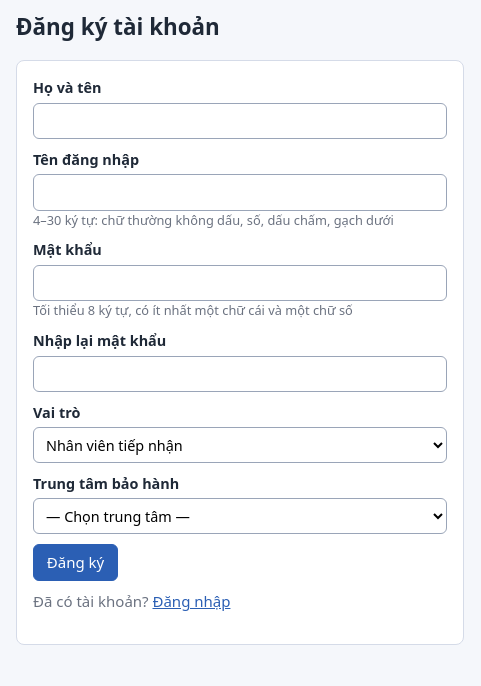
Test: Trang đăng ký › dữ liệu sai: nhập lại mật khẩu không khớp -> báo ngay, KHÔNG gọi máy chủ để đăng ký
In the field labelled "Họ và tên": (240, 121) [33, 103, 447, 139], type "Nguyễn Văn An"
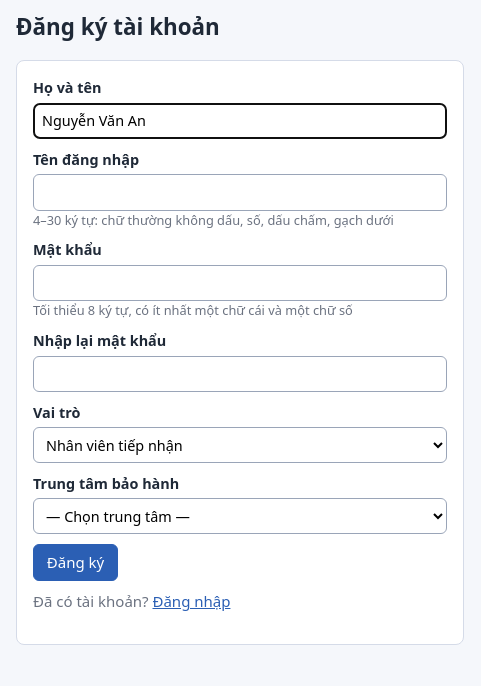
In the field labelled "Tên đăng nhập": (240, 192) [33, 174, 447, 211], type "van.an"
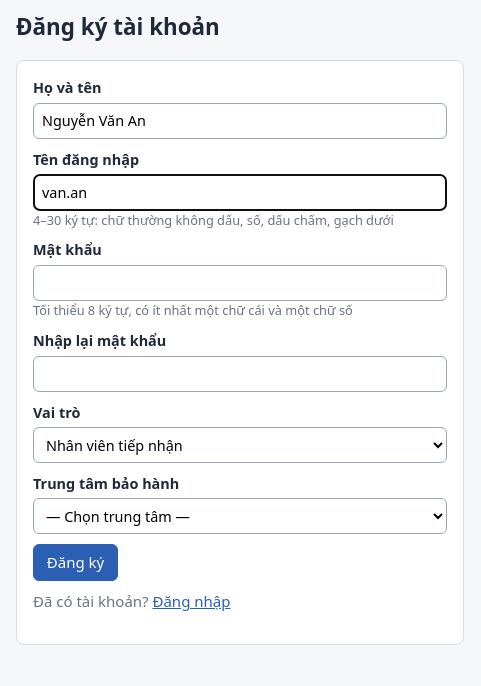
In the password field labelled "Mật khẩu": (240, 283) [33, 265, 447, 301], type "Matkhau123"
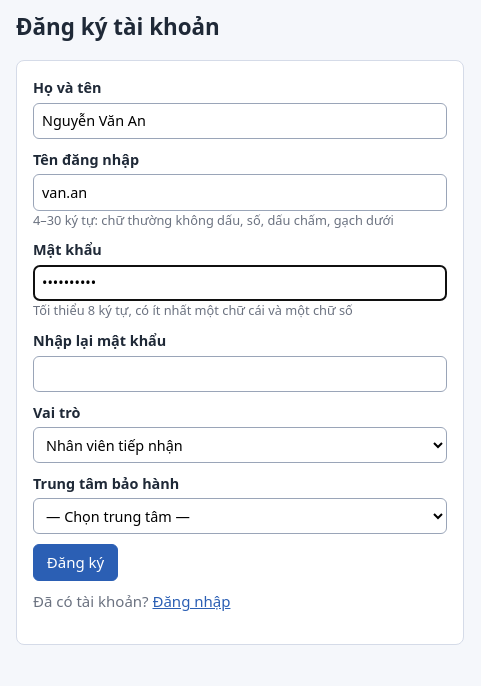
In the password field labelled "Nhập lại mật khẩu": (240, 374) [33, 356, 447, 392], type "KhacHan999"
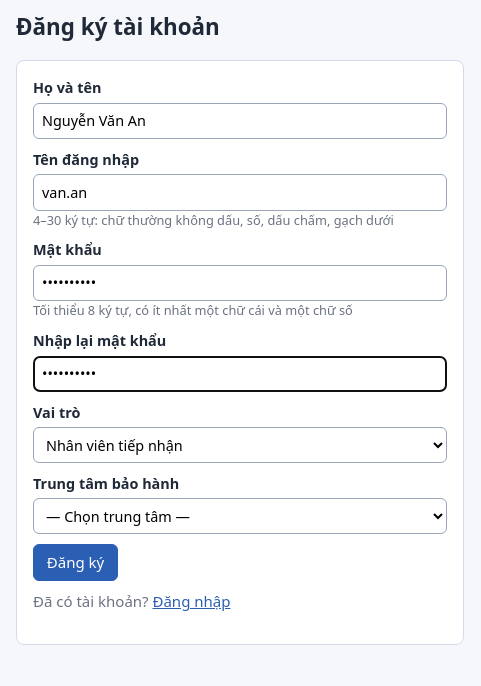
Select "Trung tâm Vĩnh Long (Vĩnh Long)" in the dropdown labelled "Trung tâm bảo hành": (240, 516) [33, 498, 447, 534]
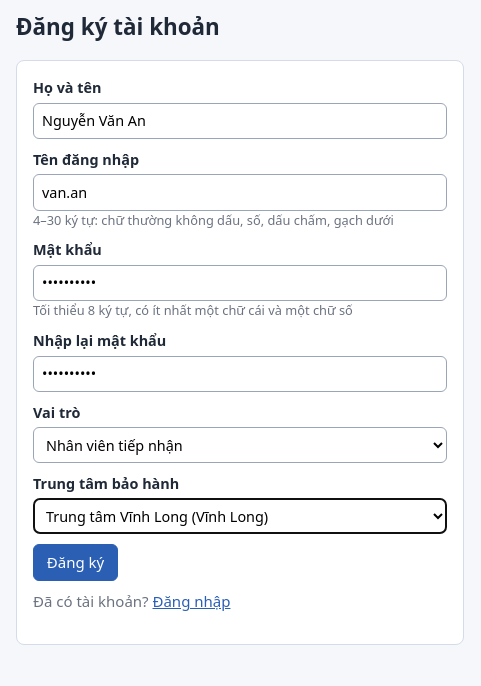
Click the button "Đăng ký": (76, 562) [33, 544, 118, 581]
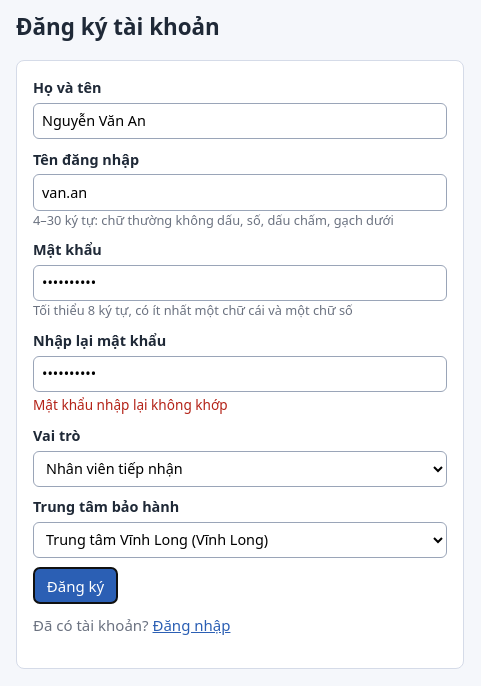
Result: the text "Mật khẩu nhập lại không khớp" is shown at [33, 395, 228, 414]
